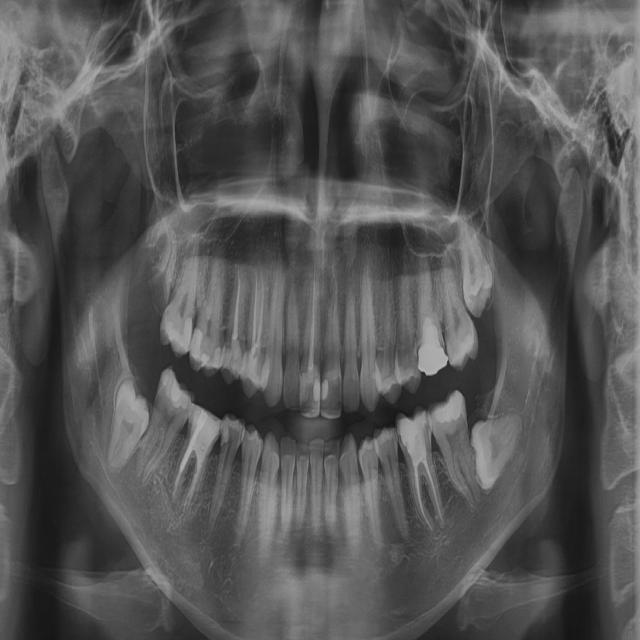Caries: (220, 440, 226, 459)
Filling: (188, 406, 219, 462), (419, 322, 447, 376), (401, 411, 427, 464), (190, 329, 224, 369), (320, 367, 343, 419), (300, 364, 321, 415), (242, 349, 268, 386), (434, 390, 463, 423), (166, 317, 192, 351), (221, 339, 244, 377), (165, 373, 189, 407), (220, 417, 230, 442)
Root Canal Treatment: (414, 466, 433, 531), (422, 459, 441, 521), (173, 441, 190, 496), (307, 264, 315, 368), (232, 268, 241, 347), (185, 465, 200, 506), (257, 269, 264, 351), (251, 270, 258, 348)
Root Piece: (148, 224, 176, 318)
impacted tooth: (473, 405, 527, 486), (454, 210, 490, 316), (109, 381, 148, 471)
